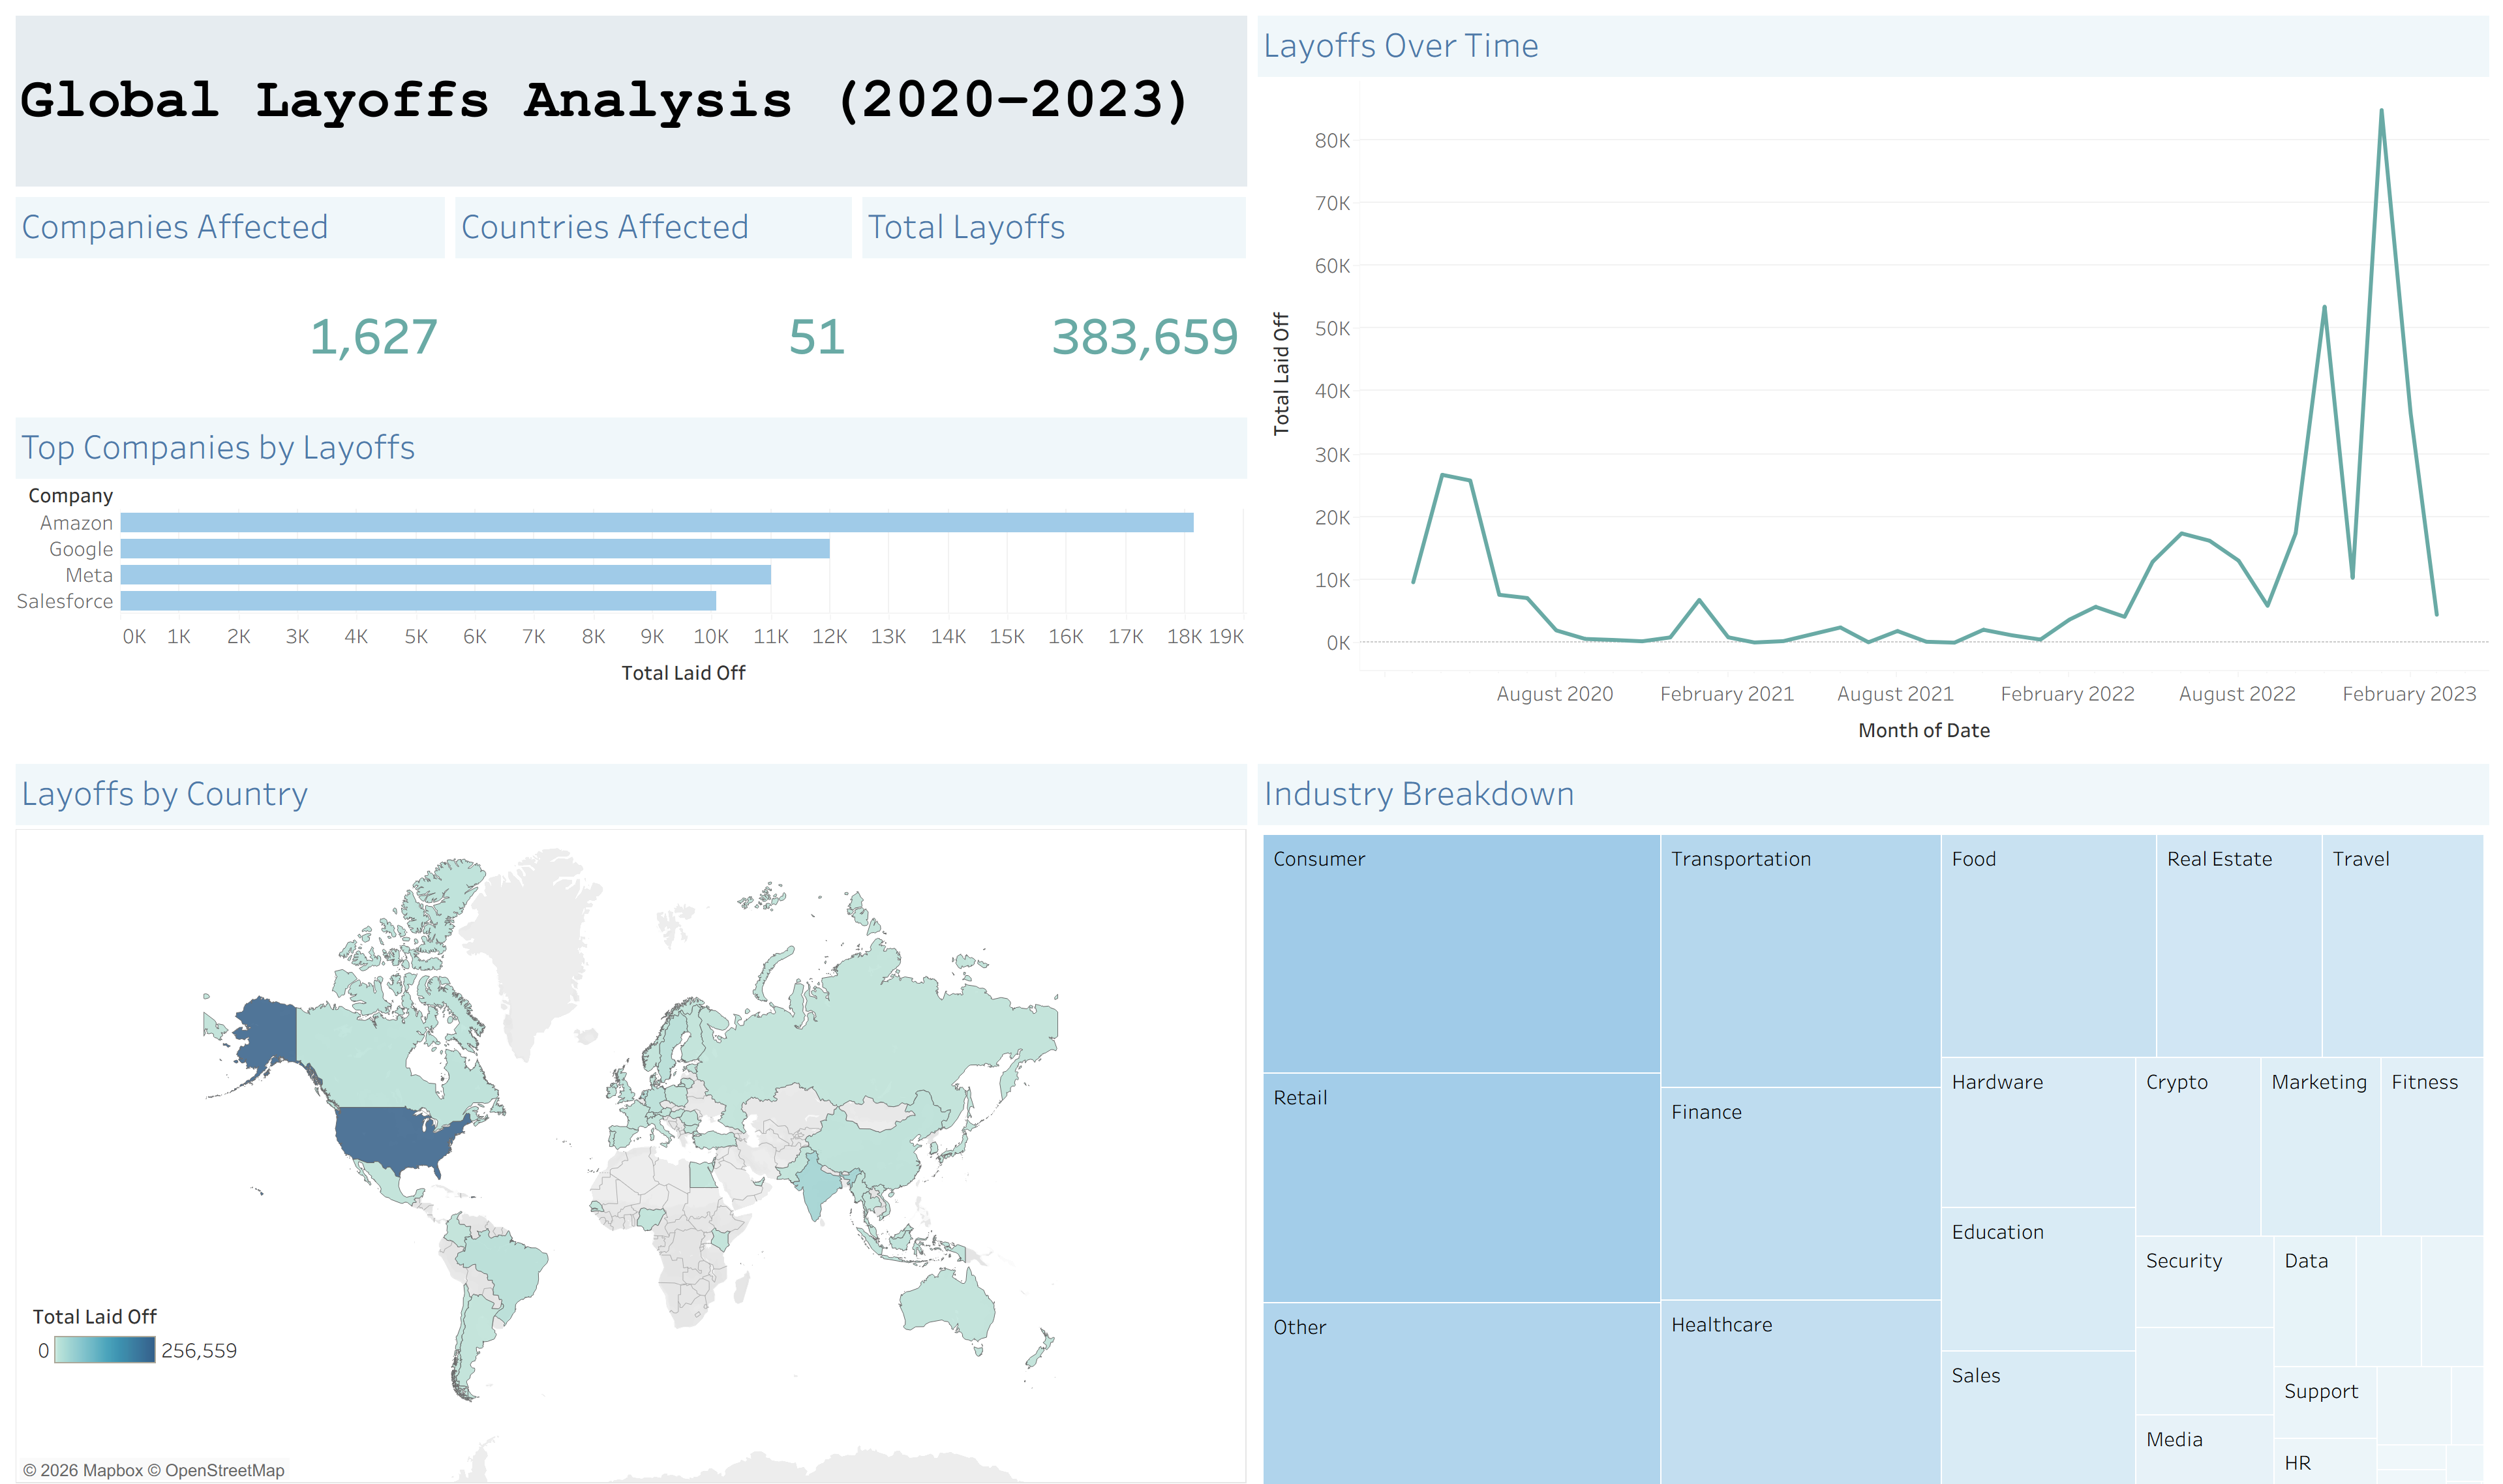

Layout of this report page (visuals, bound fields, positions):
{"tool":"tableau","page":{"name":"Global Layoffs Analysis (2020–2023)SQL + Tableau Project","canvas":[1000,1000],"units":"permille","ordinal":0},"visuals":[{"type":"title","box":[4.2,8.2,495.7,143]},{"type":"worksheet","title":"Layoffs Over Time","mark":"Line","rows":["total_laid_off"],"cols":["date"],"box":[499.9,8.2,495.8,491.8]},{"type":"worksheet","title":"Companies Affected","mark":"Automatic","box":[4.2,151.2,175.7,121.4]},{"type":"worksheet","title":"Countries Affected","mark":"Automatic","box":[180,151.2,162.5,121.4]},{"type":"worksheet","title":"Total Layoffs","mark":"Text","box":[342.4,151.2,157.5,121.4]},{"type":"worksheet","title":"Top Companies by Layoffs","mark":"Automatic","rows":["company"],"cols":["total_laid_off"],"box":[4.2,272.6,495.7,227.4]},{"type":"worksheet","title":"Layoffs by Country","mark":"Automatic","box":[4.2,500,495.7,491.8]},{"type":"worksheet","title":"Industry Breakdown","mark":"Automatic","box":[499.9,500,495.8,491.8]},{"type":"legend","title":"Layoffs by Country","param":"[federated.1i1glsc0a1imnj10ggg311bah6b6].[sum:total_laid_off:qk]","box":[13.3,859.1,84.5,90.5]}]}

Visuals, with their boxes on the dashboard's canvas, which has no fixed pixel size, in thousandths of its width and height (x1, y1, x2, y2). These are canvas units, not pixel positions in the 2503x1484 screenshot, which may show the page scaled, cropped or inside an application window:
title: (left=4, top=8, right=500, bottom=151)
"Layoffs Over Time" worksheet (Line marks): (left=500, top=8, right=996, bottom=500)
"Companies Affected" worksheet: (left=4, top=151, right=180, bottom=273)
"Countries Affected" worksheet: (left=180, top=151, right=342, bottom=273)
"Total Layoffs" worksheet (Text marks): (left=342, top=151, right=500, bottom=273)
"Top Companies by Layoffs" worksheet: (left=4, top=273, right=500, bottom=500)
"Layoffs by Country" worksheet: (left=4, top=500, right=500, bottom=992)
"Industry Breakdown" worksheet: (left=500, top=500, right=996, bottom=992)
"Layoffs by Country" legend: (left=13, top=859, right=98, bottom=950)
